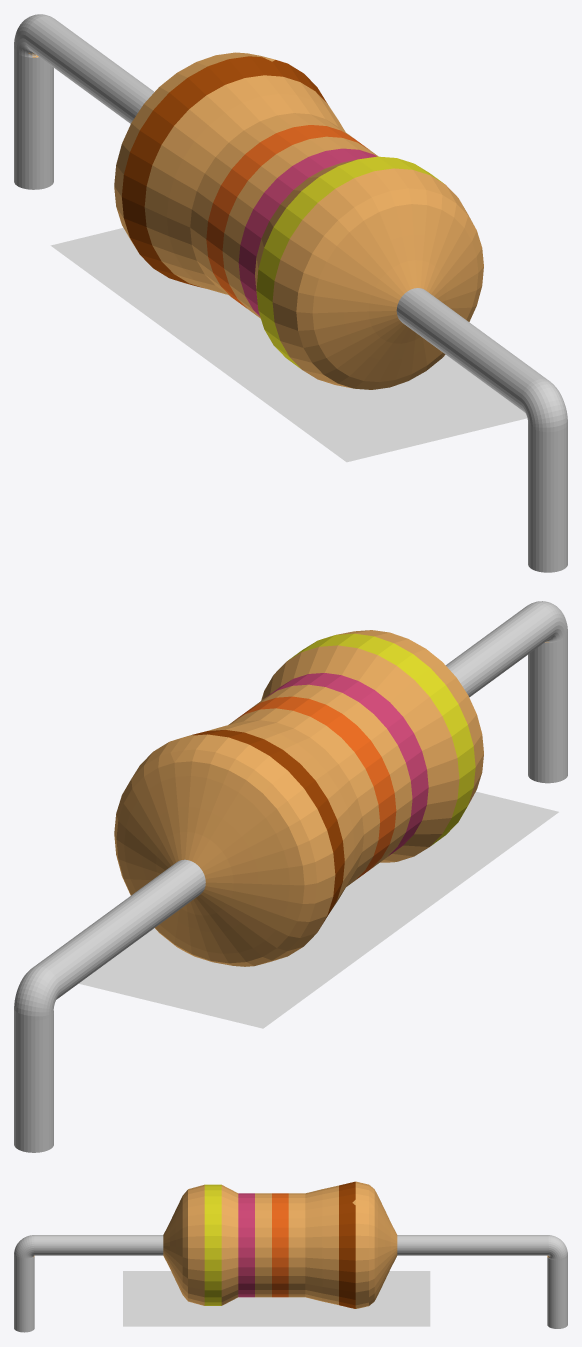
Rendered from R5_tan_3.gltf.
3 renders of one model, top to bottom at view 1: azimuth 30°, elevation 25°; view 2: azimuth 150°, elevation 25°; view 3: azimuth 270°, elevation 25°, orthographic. The views are drawn at different scales.
Visible parts, largest first — view 1: R5_tan_3, R5_tan_3_plane; view 2: R5_tan_3, R5_tan_3_plane; view 3: R5_tan_3, R5_tan_3_plane.
Boxes of the visible parts, bbox=[...] form: R5_tan_3: bbox=[14, 14, 567, 572]; R5_tan_3_plane: bbox=[50, 227, 527, 462]; R5_tan_3: bbox=[14, 601, 567, 1152]; R5_tan_3_plane: bbox=[79, 791, 558, 1028]; R5_tan_3: bbox=[14, 1181, 567, 1332]; R5_tan_3_plane: bbox=[123, 1271, 430, 1326].
Size of the model in its own units: 0.0161 by 0.0189 by 0.0676.
